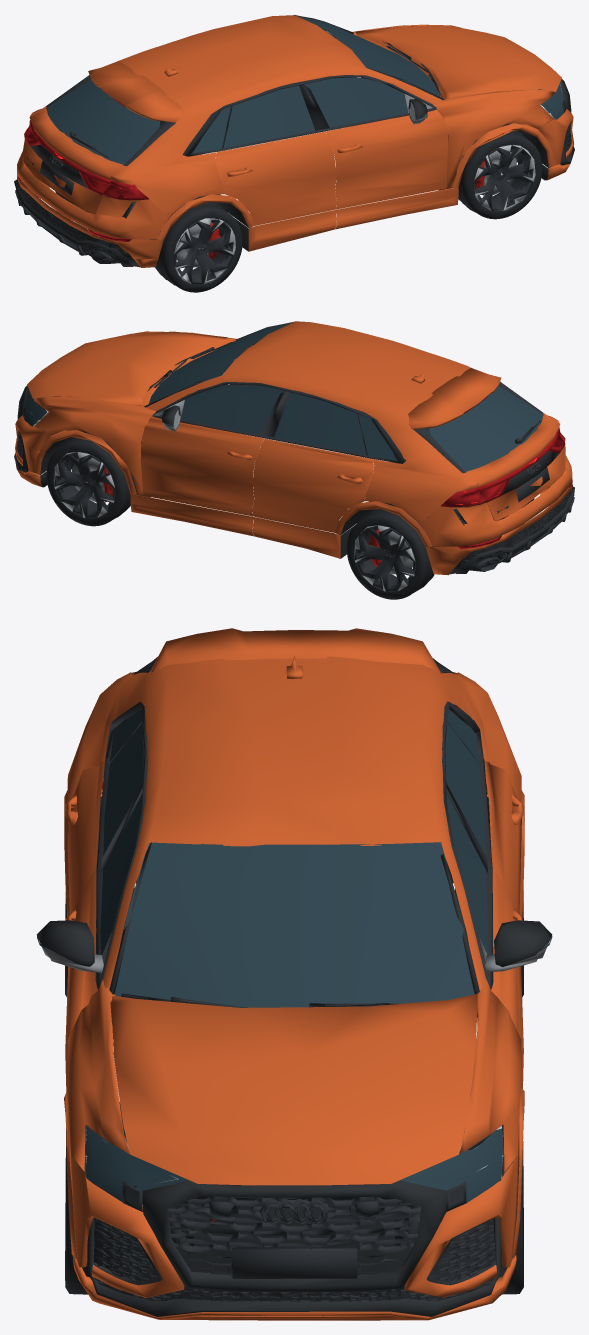
Rendered from car-orange.glb.
3 views of the same model, one above another, from view 1: azimuth 30°, elevation 25°; view 2: azimuth 150°, elevation 25°; view 3: azimuth 270°, elevation 25° (orthographic). The views are drawn at different scales.
Parts seen in each view (by area): view 1: car-orange; view 2: car-orange; view 3: car-orange.
Part boxes in pixels (x1,y1,x2,y2): car-orange: (14,14,574,292); car-orange: (14,321,574,599); car-orange: (36,628,552,1320).
Bounding box in the file's own units: 5 × 1.71 × 2.23.
